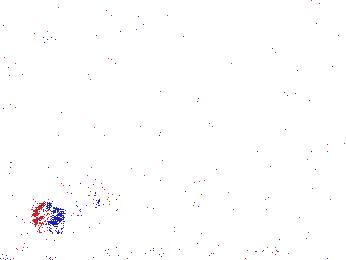flame jellyfish: (33, 170, 111, 229), (18, 157, 69, 204)
